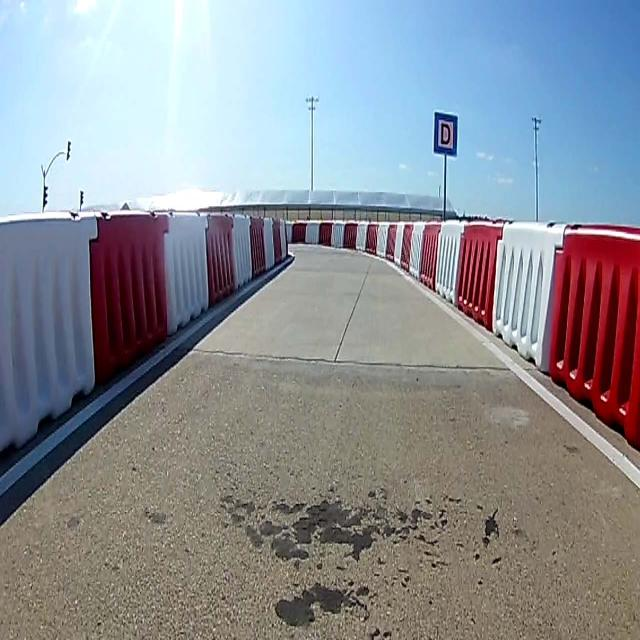durak: (434, 113, 457, 152)
